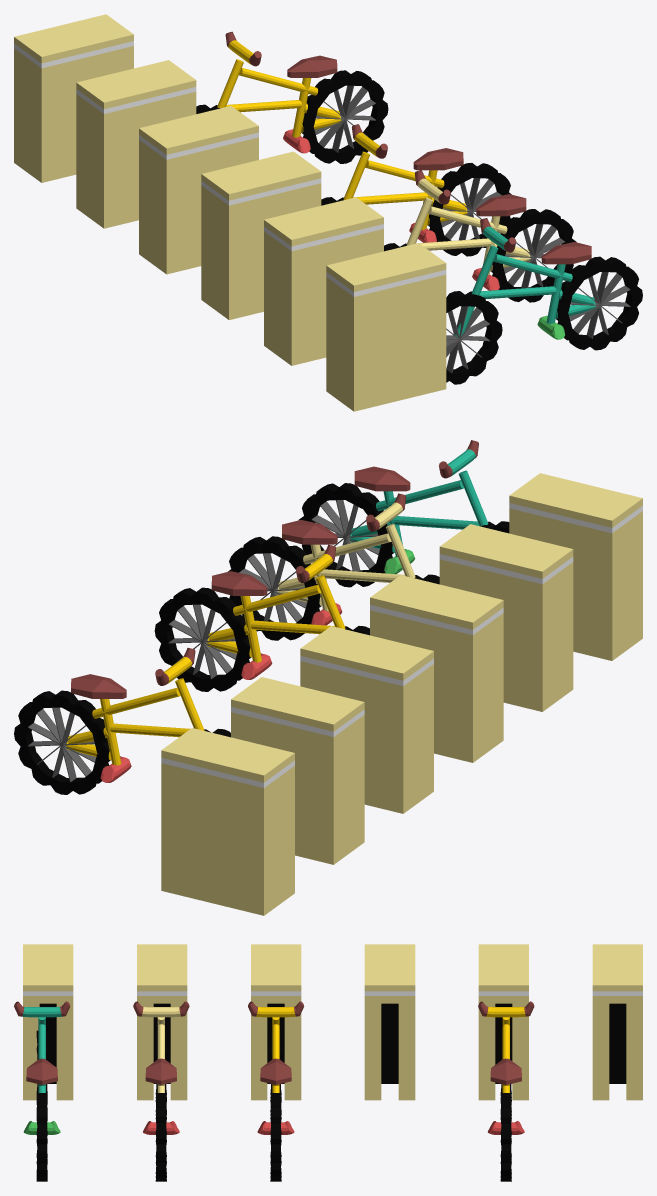
Rendered from bicycle.fbx.
The picture shows the model from 3 angles, top to bottom: view 1: azimuth 30°, elevation 25°; view 2: azimuth 150°, elevation 25°; view 3: azimuth 270°, elevation 25°; orthographic projection. The views are drawn at different scales.
Parts seen in each view (by area): view 1: bicycle_park_1, bicycle_green, bicycle_park_5, bicycle_park_3, bicycle_park_6, bicycle_park_2, bicycle_park_4, bicycle_yellow_2, bicycle_red, bicycle_yellow; view 2: bicycle_park_6, bicycle_park_2, bicycle_park_5, bicycle_park_4, bicycle_park_1, bicycle_park_3, bicycle_yellow_2, bicycle_yellow, bicycle_green, bicycle_red; view 3: bicycle_park_4, bicycle_park_6, bicycle_park_1, bicycle_park_3, bicycle_park_5, bicycle_park_2, bicycle_yellow, bicycle_green, bicycle_yellow_2, bicycle_red.
Boxes of the visible parts, x1,y1,x2,y2 form: bicycle_park_1: (326, 243, 446, 411); bicycle_green: (446, 218, 642, 384); bicycle_park_5: (76, 60, 196, 228); bicycle_park_3: (201, 151, 321, 319); bicycle_park_6: (14, 14, 133, 182); bicycle_park_2: (264, 197, 383, 365); bicycle_park_4: (139, 106, 258, 274); bicycle_yellow_2: (196, 31, 388, 163); bicycle_red: (384, 170, 576, 302); bicycle_yellow: (321, 124, 511, 256); bicycle_park_6: (161, 728, 294, 915); bicycle_park_2: (439, 524, 573, 711); bicycle_park_5: (231, 677, 364, 864); bicycle_park_4: (300, 626, 433, 813); bicycle_park_1: (509, 473, 642, 660); bicycle_park_3: (370, 575, 503, 762); bicycle_yellow_2: (14, 648, 230, 794); bicycle_yellow: (154, 544, 369, 691); bicycle_green: (299, 440, 509, 587); bicycle_red: (228, 493, 439, 640); bicycle_park_4: (364, 944, 415, 1100); bicycle_park_6: (592, 944, 642, 1100); bicycle_park_1: (23, 944, 73, 1100); bicycle_park_3: (251, 944, 301, 1100); bicycle_park_5: (478, 944, 528, 1100); bicycle_park_2: (137, 944, 187, 1100); bicycle_yellow: (248, 1001, 304, 1181); bicycle_green: (14, 1001, 70, 1181); bicycle_yellow_2: (478, 1001, 534, 1181); bicycle_red: (133, 1001, 189, 1181).
Size of the model in its own units: 847 by 393 by 1707.
